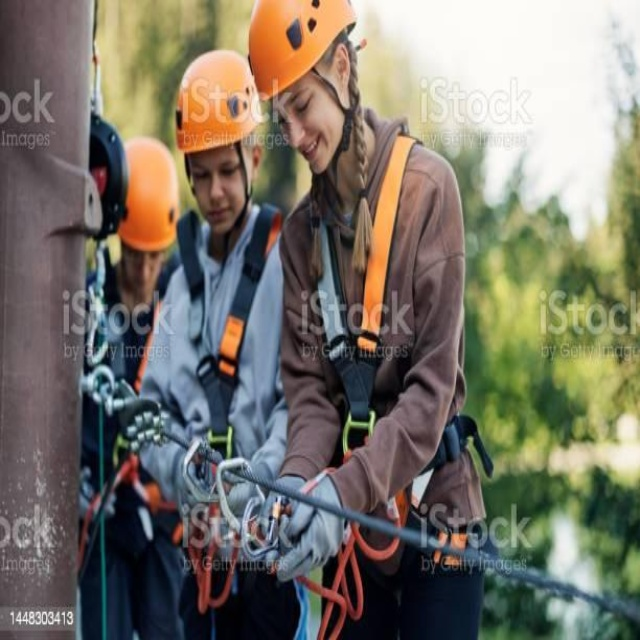Arnes_seguridad: (309, 127, 481, 591), (173, 209, 284, 564), (93, 253, 173, 542)
